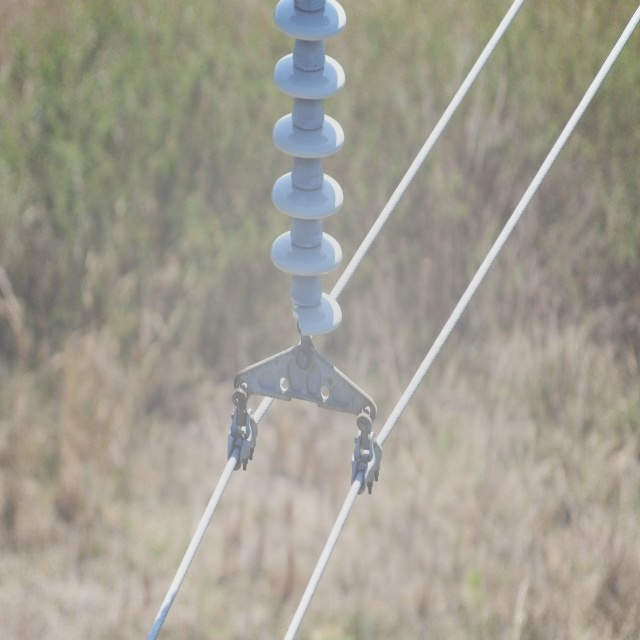broken: (287, 292, 308, 337)
insulator: (268, 0, 349, 339)
